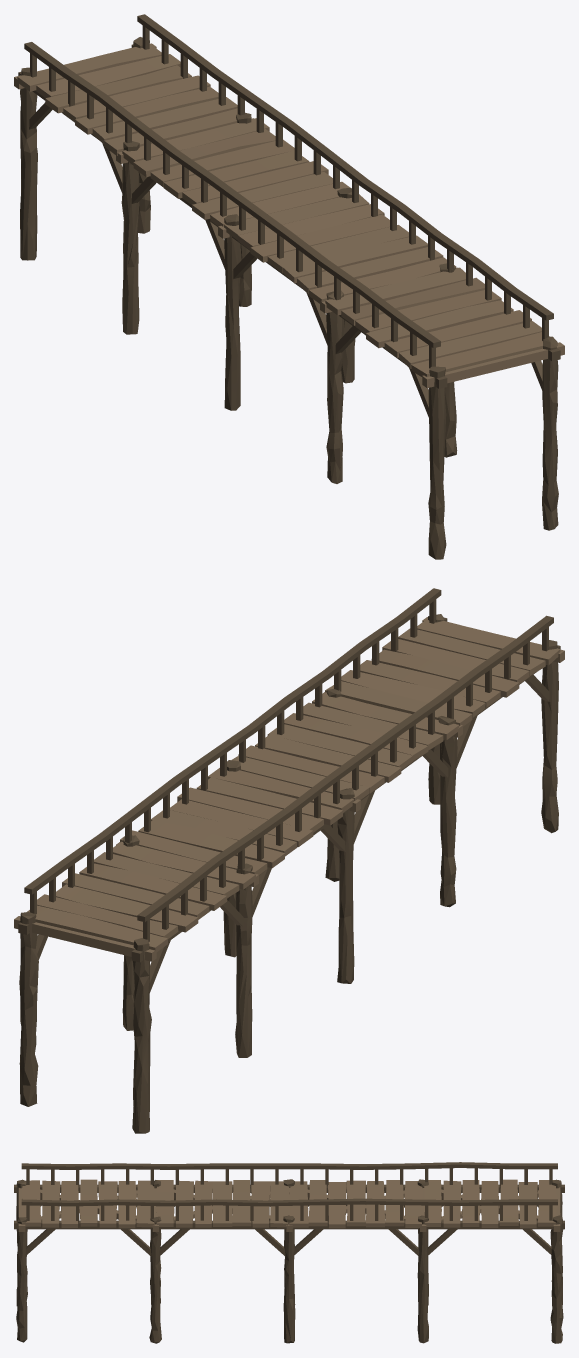
File: bridge_e.FBX
The picture shows the model from 3 angles, top to bottom: view 1: azimuth 30°, elevation 25°; view 2: azimuth 150°, elevation 25°; view 3: azimuth 270°, elevation 25°; orthographic projection. The views are drawn at different scales.
Visible parts, largest first — view 1: bridge_e; view 2: bridge_e; view 3: bridge_e.
Part boxes in pixels (bbox=[...]): bridge_e: bbox=[14, 14, 564, 559]; bridge_e: bbox=[14, 588, 564, 1133]; bridge_e: bbox=[14, 1162, 564, 1343].
Bounding box in the file's own units: 4.94 × 7.36 × 25.75.
